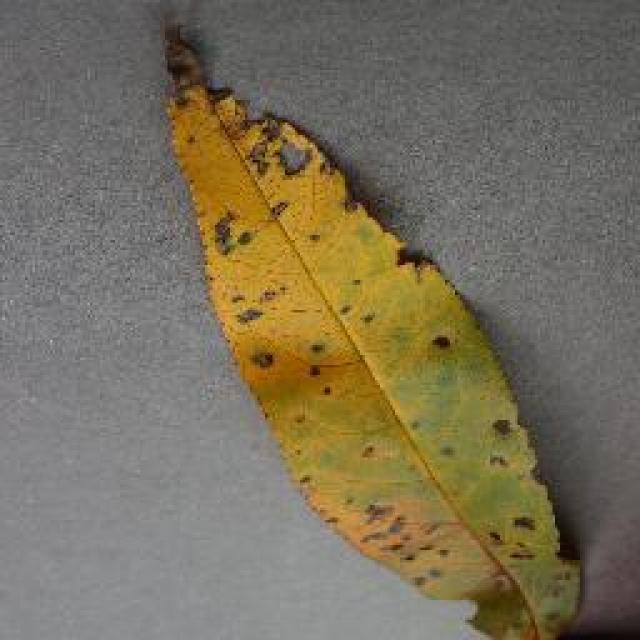Peach_Bacterial_Spot: (118, 4, 442, 434)
